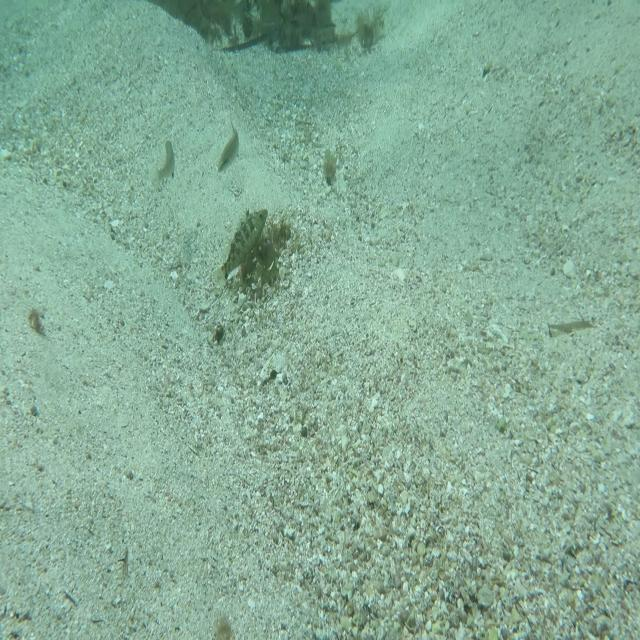ROLL: (207, 200, 271, 295)
female: (214, 118, 241, 180), (154, 129, 178, 191)
nest: (234, 214, 292, 303)
vegetation: (158, 0, 348, 52), (320, 141, 338, 191)
